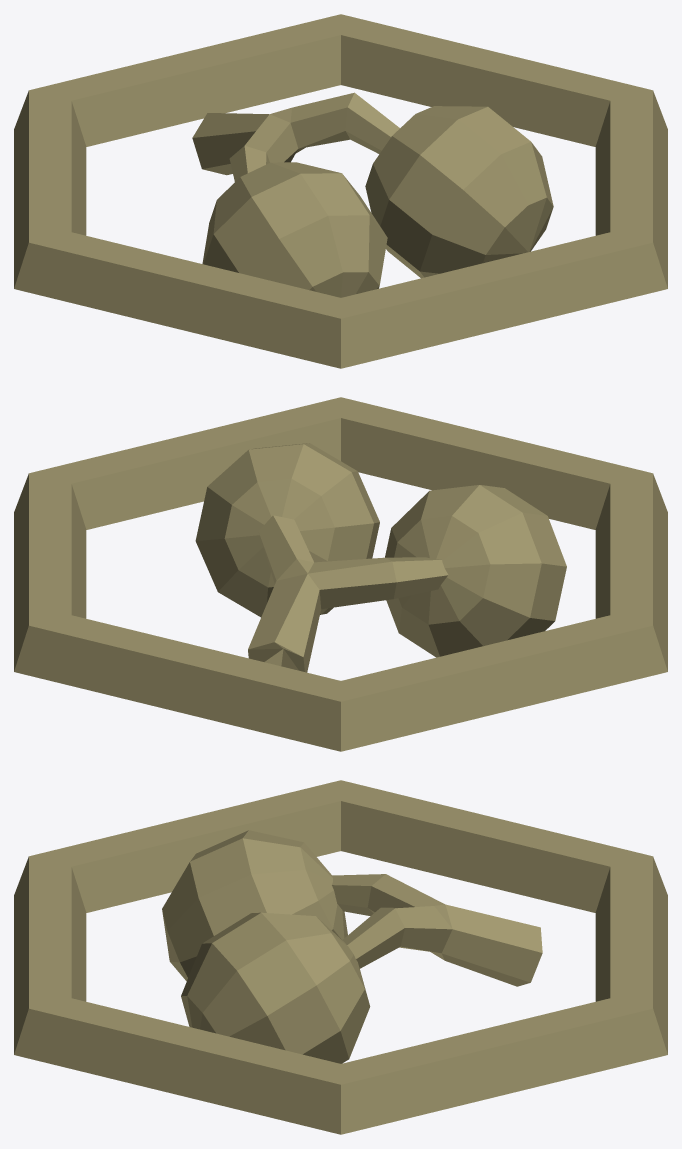
The model's file is Bonus_Bonus.FBX.
3 renders of one model, top to bottom at view 1: azimuth 30°, elevation 25°; view 2: azimuth 150°, elevation 25°; view 3: azimuth 270°, elevation 25°, orthographic.
Parts seen in each view (by area): view 1: 3DIcon_Bonus; view 2: 3DIcon_Bonus; view 3: 3DIcon_Bonus.
Boxes of the visible parts, x1,y1,x2,y2 form: 3DIcon_Bonus: (14, 14, 667, 368); 3DIcon_Bonus: (14, 397, 667, 751); 3DIcon_Bonus: (14, 780, 667, 1134).
Bounding box in the file's own units: 1 × 0.259 × 0.866.
